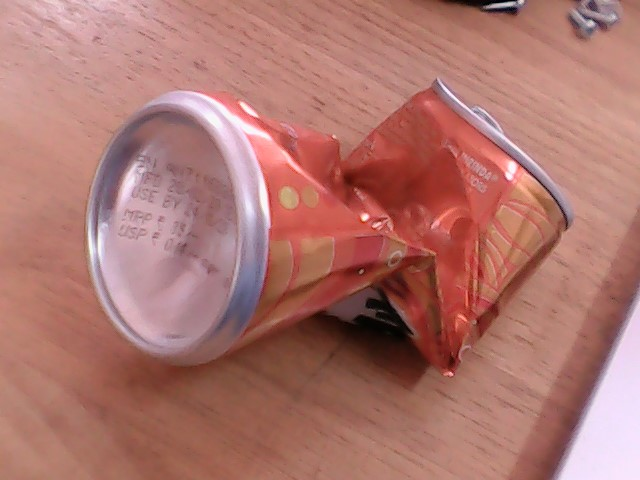Metal: (69, 87, 593, 351)
